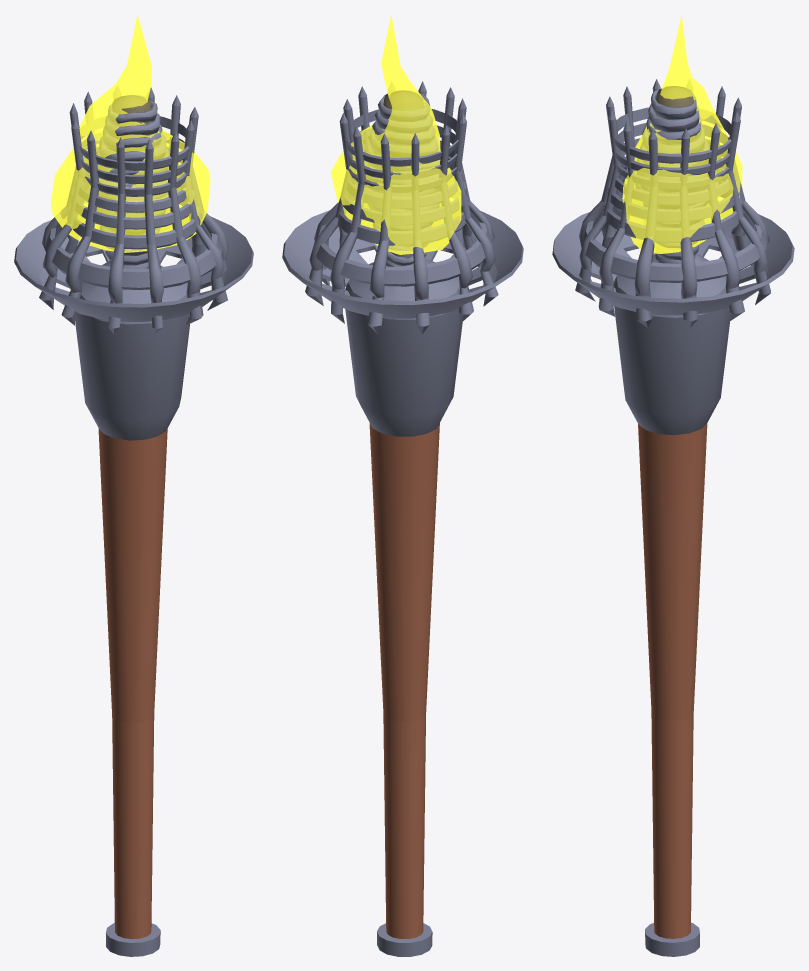
Rendered from Torchl.fbx.
3 views of the same model, side by side, from view 1: azimuth 30°, elevation 25°; view 2: azimuth 150°, elevation 25°; view 3: azimuth 270°, elevation 25° (orthographic).
Visible parts, largest first — view 1: torch, flame; view 2: torch, flame; view 3: torch, flame.
Part boxes in pixels (x1,y1,x2,y2): torch: [14, 87, 253, 956]; flame: [50, 14, 210, 252]; torch: [282, 81, 523, 956]; flame: [331, 15, 461, 254]; torch: [552, 79, 794, 956]; flame: [622, 15, 742, 253].
Size of the model in its own units: 32.77 by 140 by 32.77.
